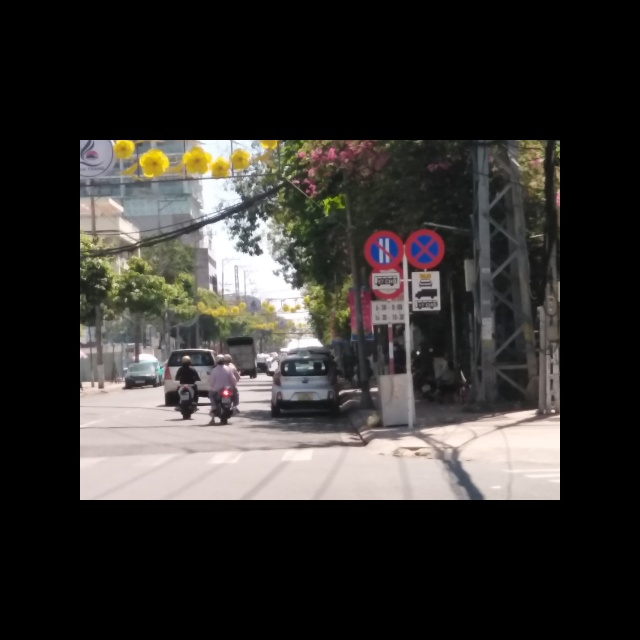Cấm dừng xe và đỗ xe: (405, 229, 445, 270)
Cấm đỗ xe ngày chẵn: (363, 230, 405, 271)
